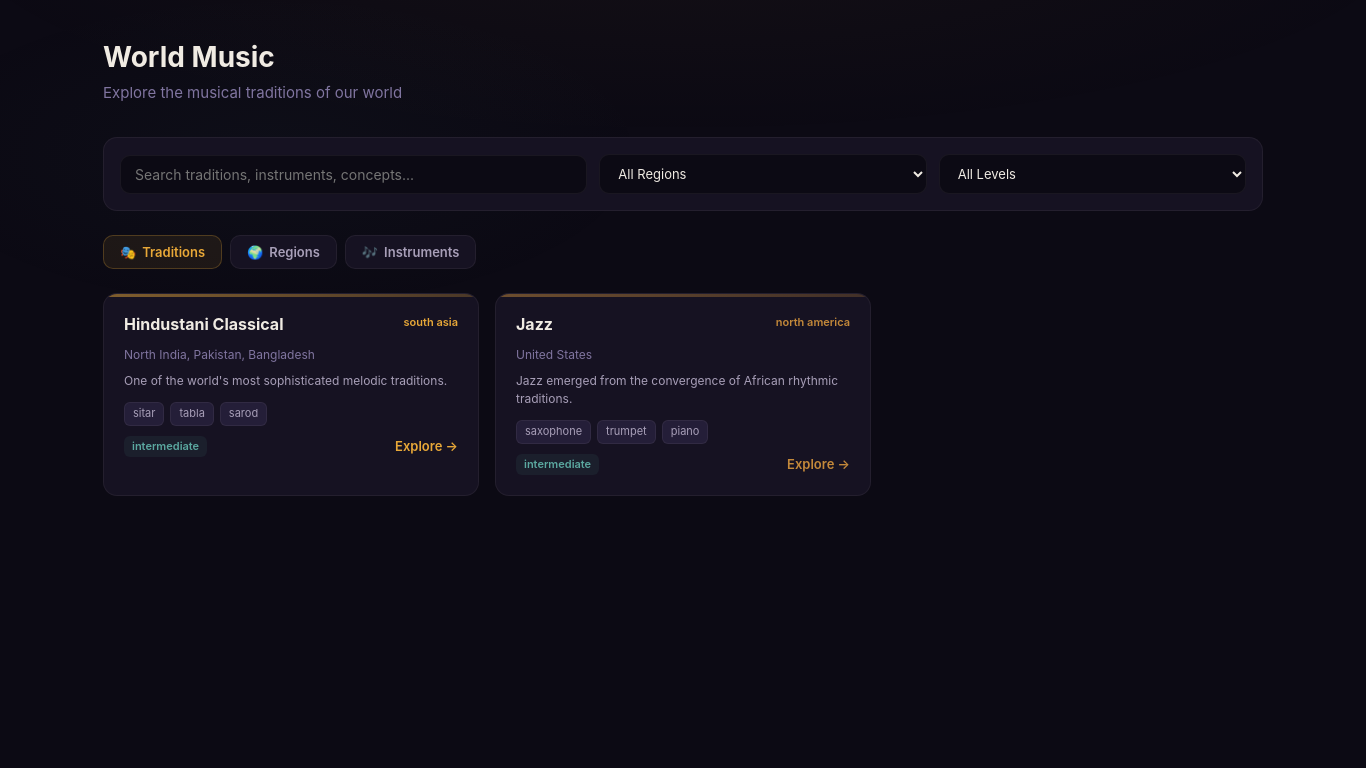
Scenario: WorldMusic page › searches traditions by name
Expected: the heading "Hindustani Classical" is shown, left=124, top=314, right=284, bottom=335
Type "jazz" into the field with placeholder "Search traditions, instruments, concepts..." at (354, 174), box left=120, top=154, right=587, bottom=194
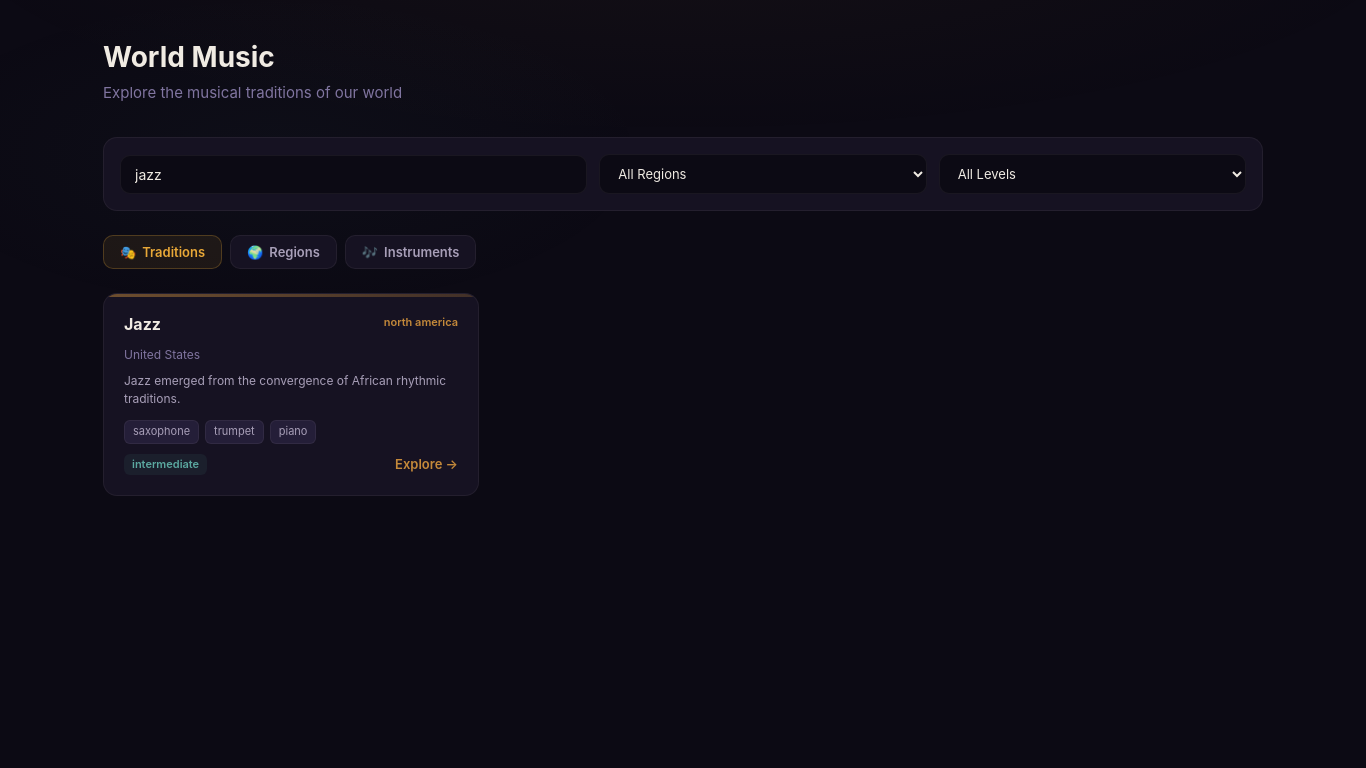
Expected: the heading "Jazz" is shown, left=124, top=314, right=161, bottom=335
Result: the button "Hindustani Classical" is gone
